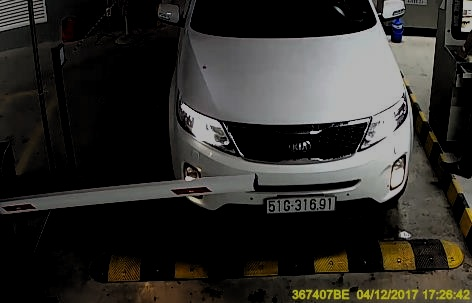plate: (266, 191, 339, 215)
